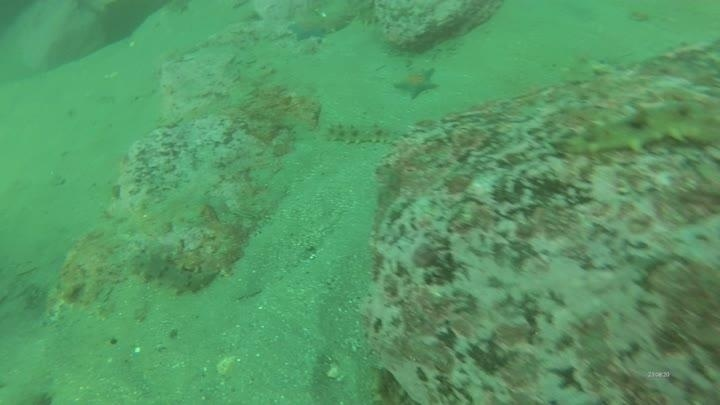holothurian: (558, 95, 719, 162), (128, 247, 222, 298), (321, 117, 398, 149)
starfish: (391, 64, 441, 101), (285, 14, 332, 43)
